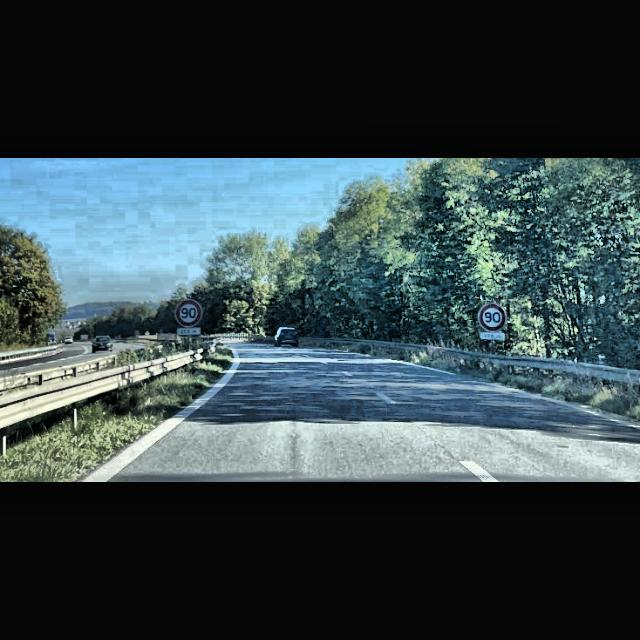speed_90: (478, 304, 506, 332), (176, 300, 202, 326)
